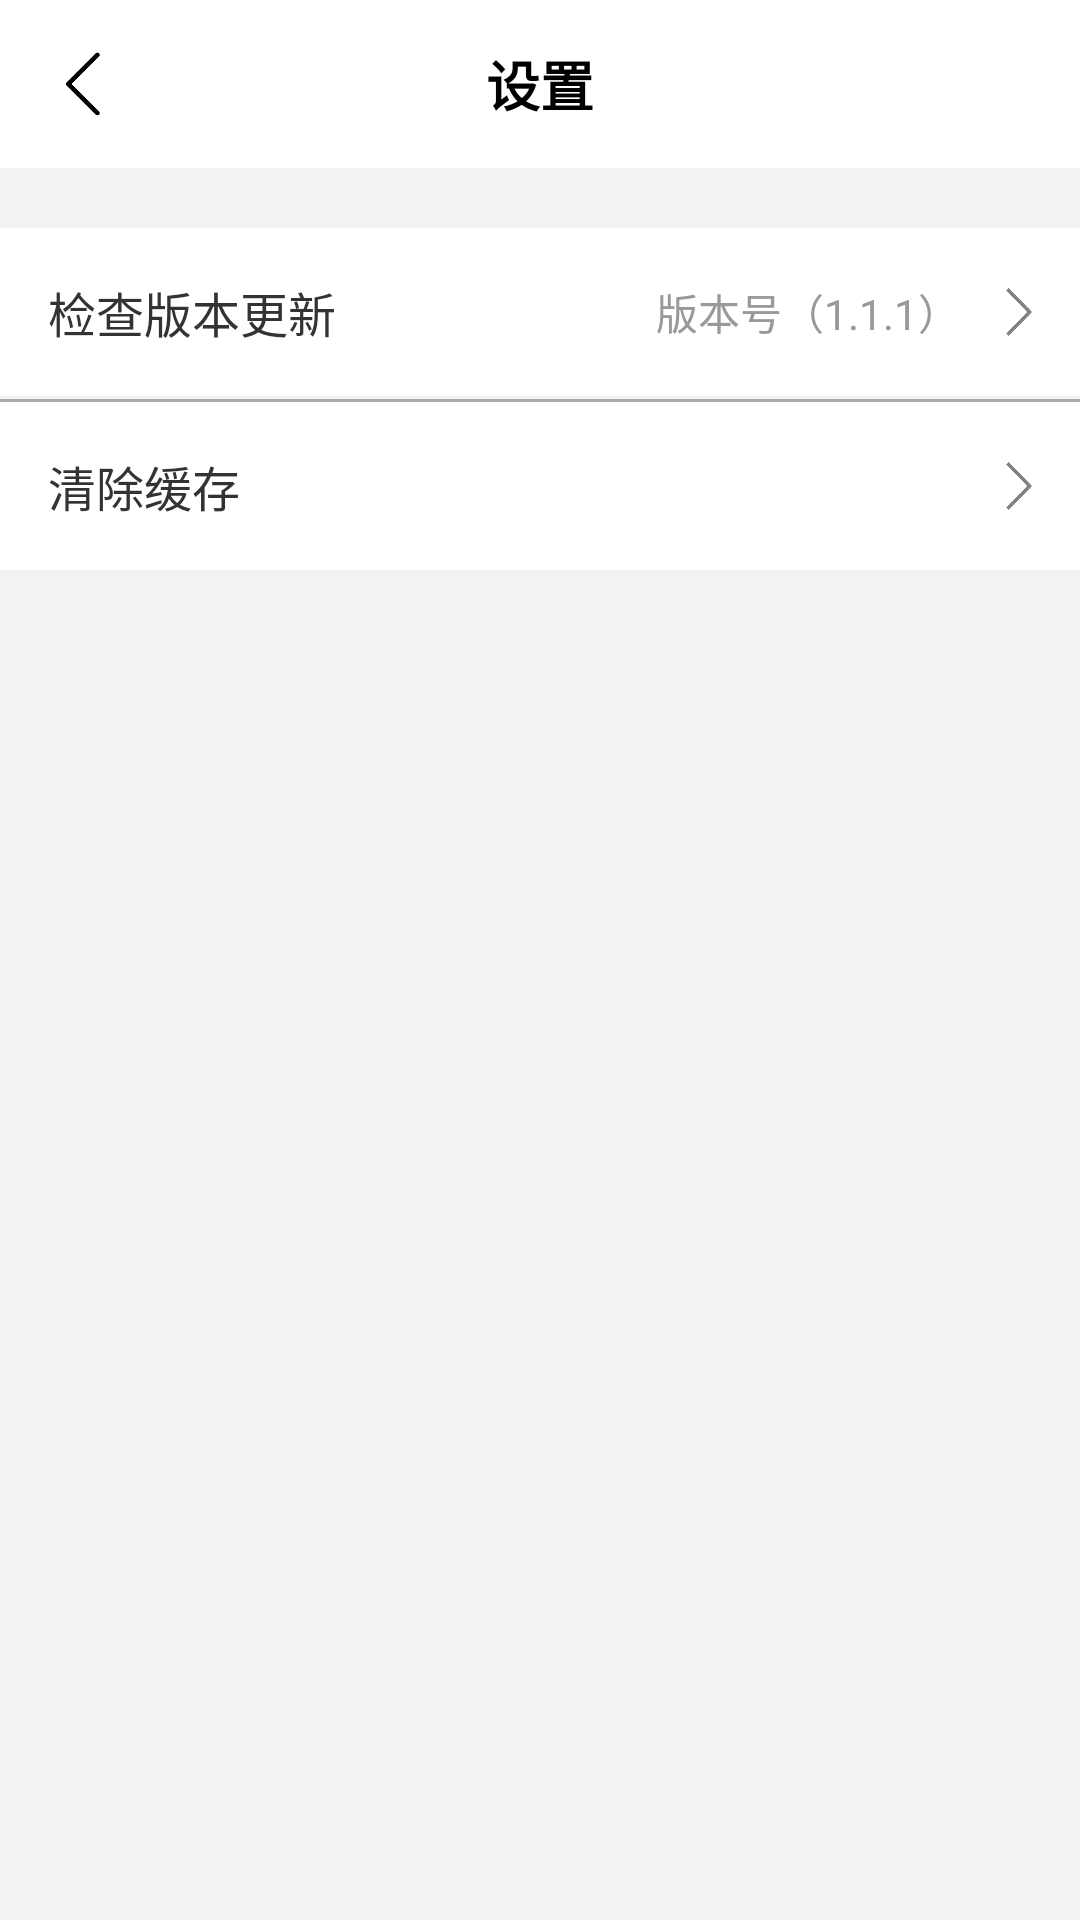

Named icons in this screenshot (1080x1920) and their bounding boxes, (x1, y1, x2, y2):
arrow back: (66, 52, 100, 116)
going: (1006, 288, 1032, 336), (1006, 462, 1032, 510)
